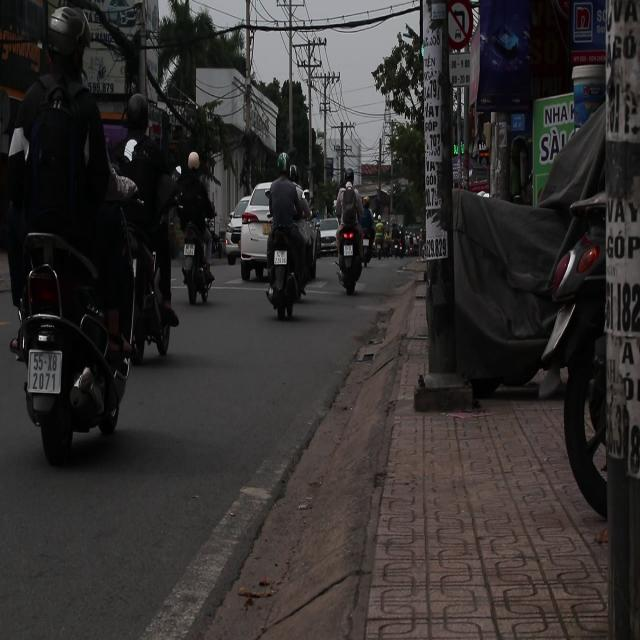car: (231, 187, 274, 267), (316, 217, 338, 253)
motorbike: (5, 226, 132, 461), (108, 177, 186, 377), (169, 194, 236, 332), (264, 202, 306, 326), (332, 192, 370, 298)
